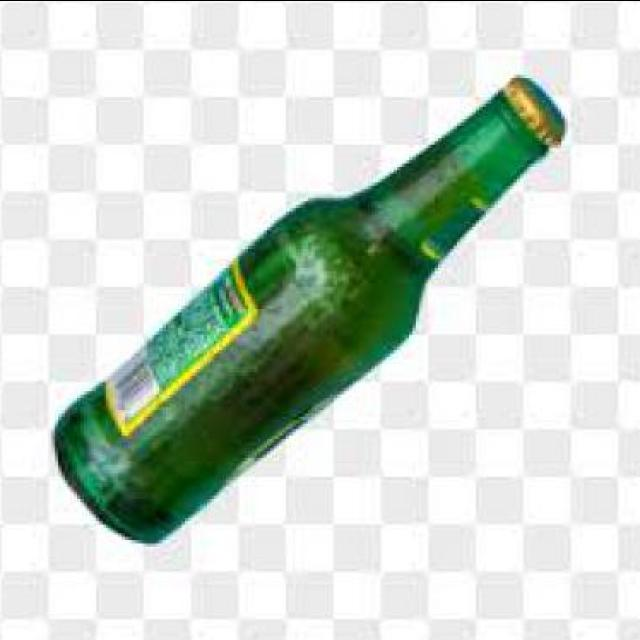kaca: (49, 88, 540, 542)
